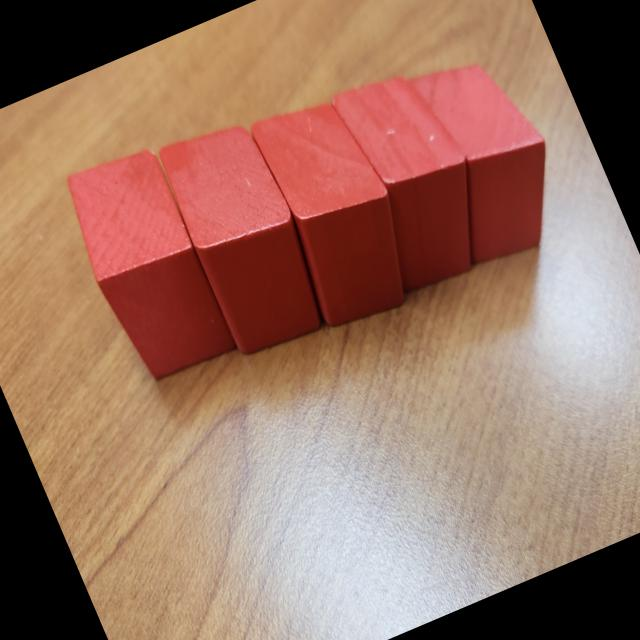red: (52, 138, 243, 392), (243, 84, 431, 334), (152, 108, 338, 360), (322, 54, 508, 296), (394, 39, 582, 273)
